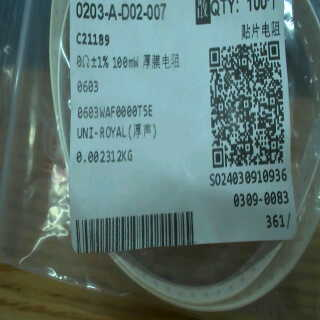0R: (74, 53, 143, 97)
